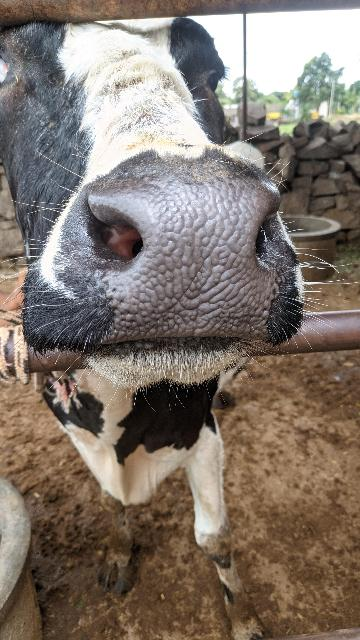Muzzle: (100, 166, 273, 332)
